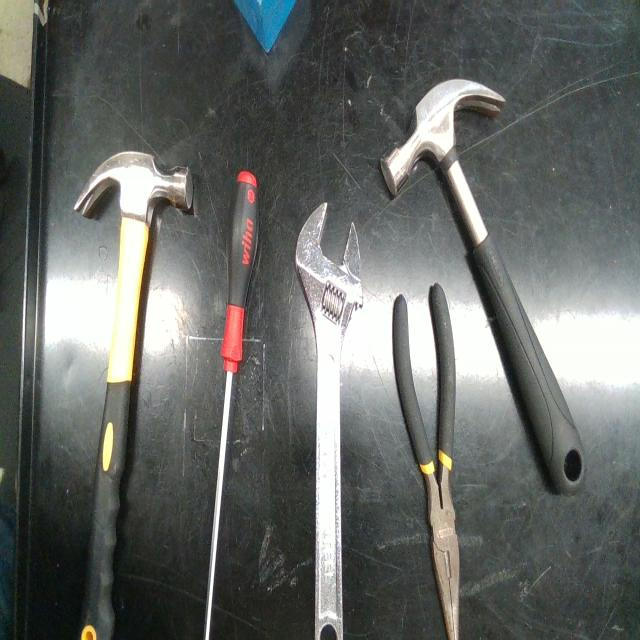Screwdriver: (204, 171, 258, 640)
